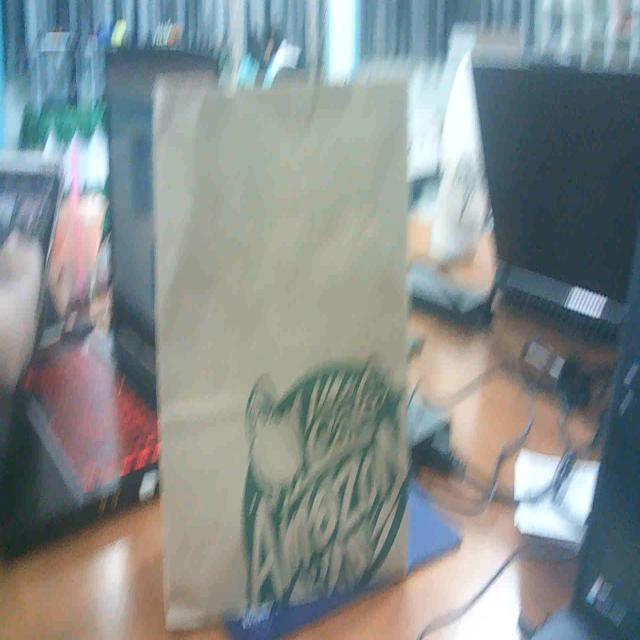bag: (151, 44, 412, 622)
